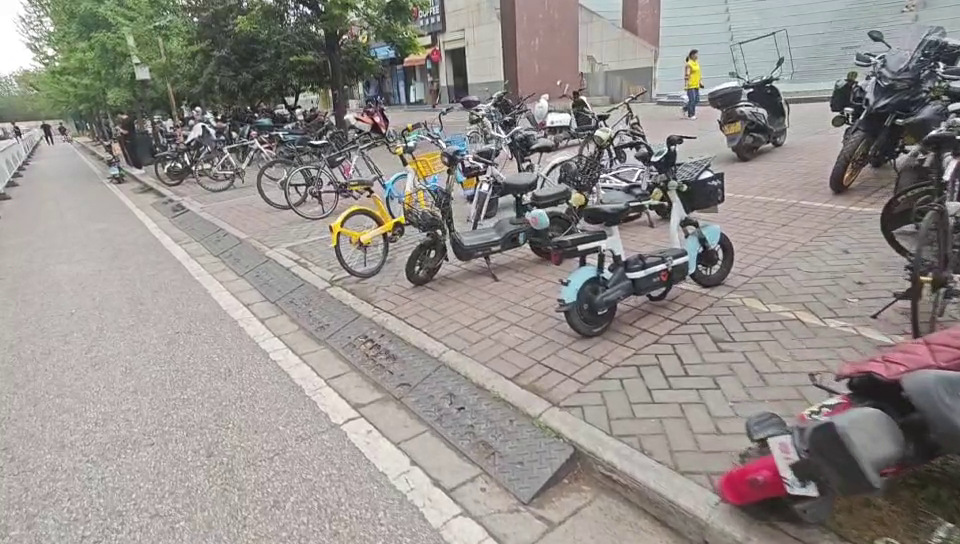others: (552, 141, 736, 332), (837, 22, 953, 199), (420, 153, 555, 274), (713, 28, 803, 161), (255, 123, 365, 211), (191, 120, 290, 197)
shared_bike_haluo: (379, 104, 483, 217)
shared_bike_meituan: (327, 130, 450, 269)
